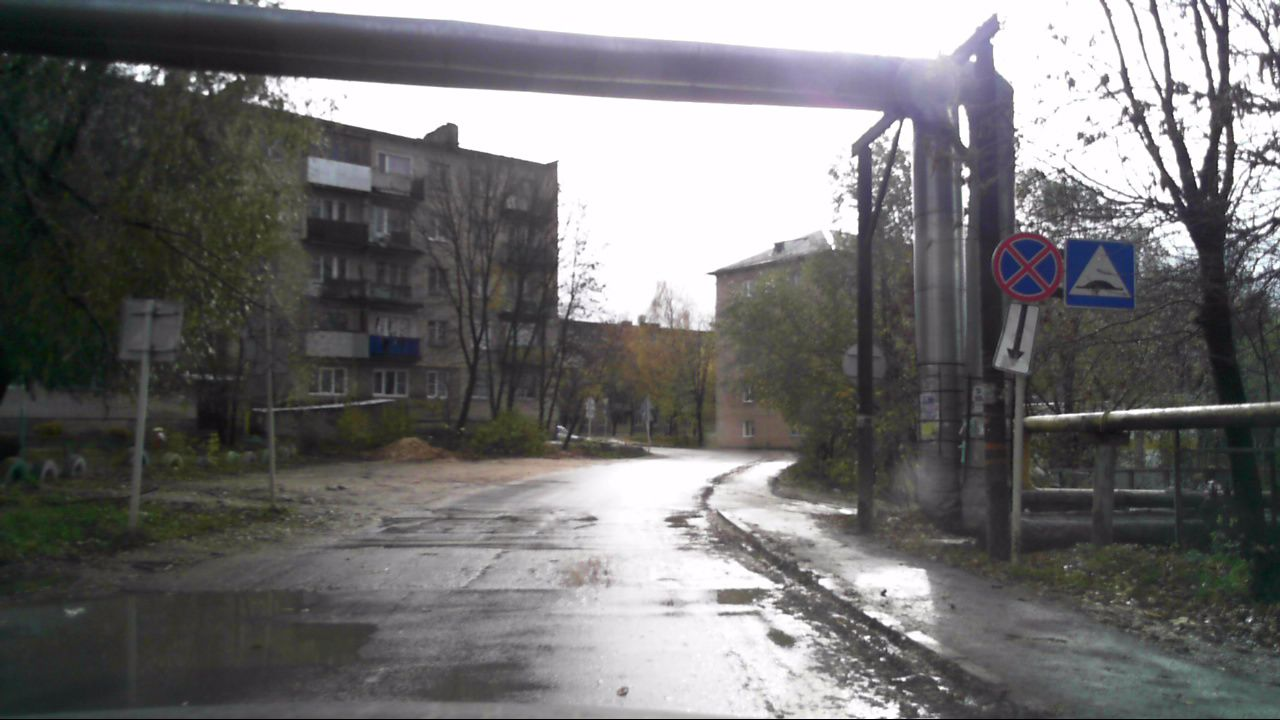No Parking: (991, 233, 1061, 304)
